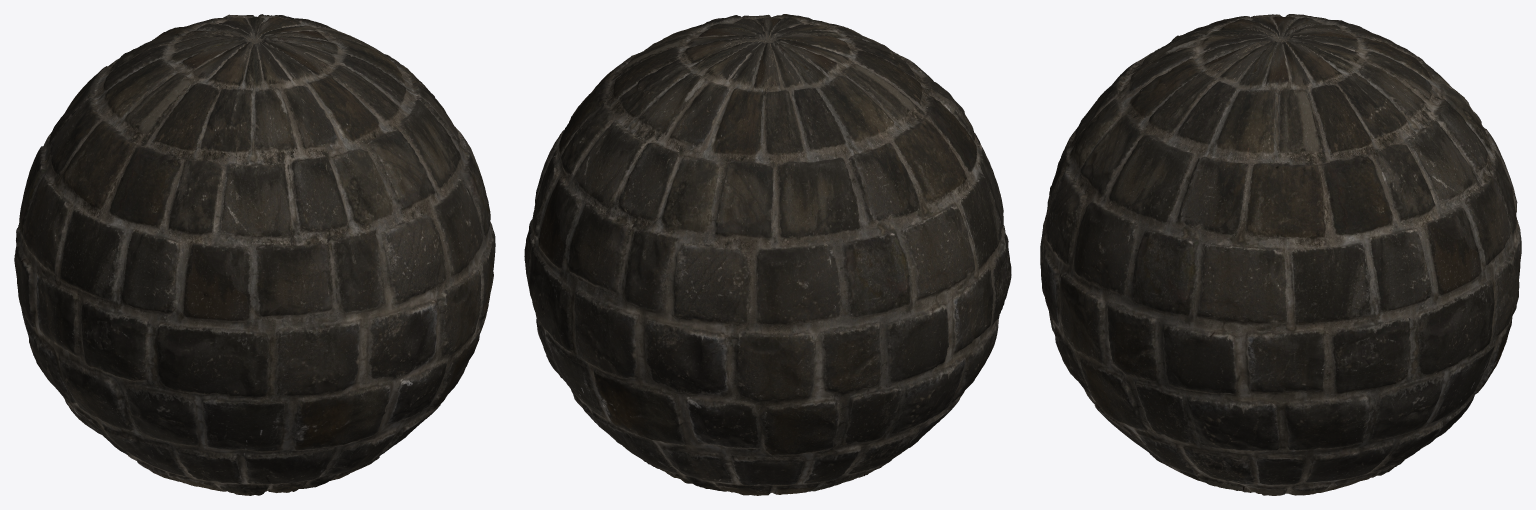
Rendered from rock_wall_16_1k.gltf.
3 views of the same model, side by side, from view 1: azimuth 30°, elevation 25°; view 2: azimuth 150°, elevation 25°; view 3: azimuth 270°, elevation 25° (orthographic).
Parts seen in each view (by area): view 1: sphere_gltf; view 2: sphere_gltf; view 3: sphere_gltf.
Boxes of the visible parts, x1,y1,x2,y2 form: sphere_gltf: (14, 14, 495, 495); sphere_gltf: (524, 14, 1011, 495); sphere_gltf: (1040, 14, 1521, 495).
Bounding box in the file's own units: 2.01 × 2.03 × 2.02.
Materials: 1 (1 with a texture image).
